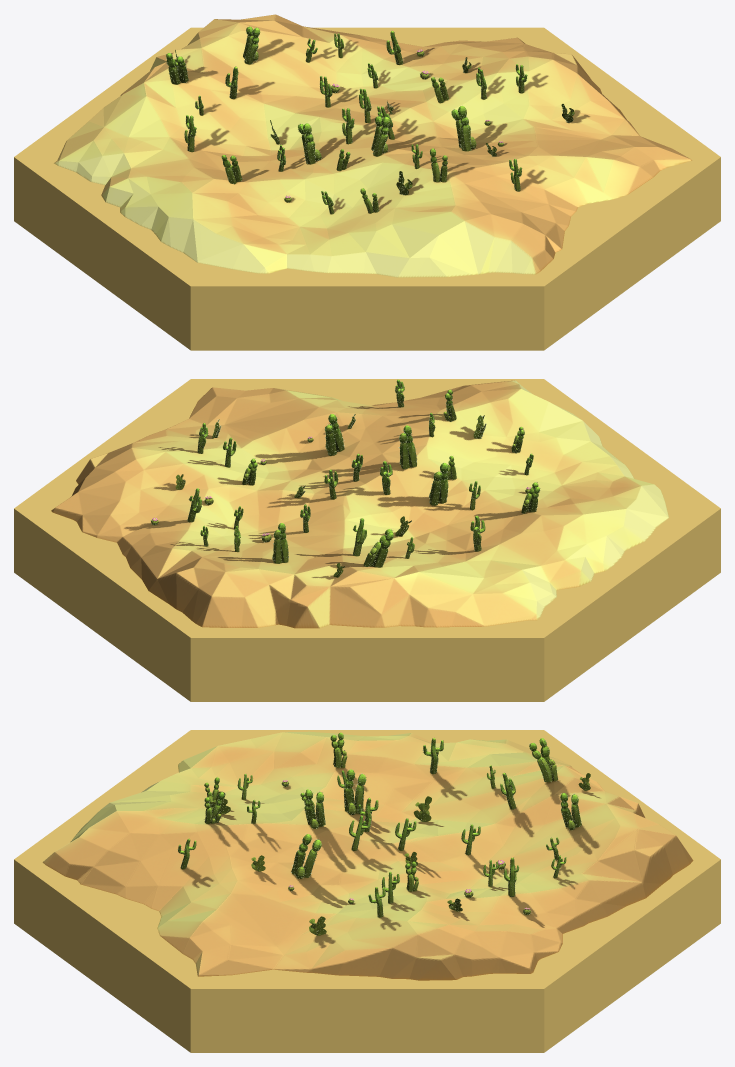
File: desert.glb
The picture shows the model from 3 angles, top to bottom: view 1: azimuth 30°, elevation 25°; view 2: azimuth 150°, elevation 25°; view 3: azimuth 270°, elevation 25°; orthographic projection.
Visible parts, largest first — view 1: Cylinder_012; view 2: Cylinder_012; view 3: Cylinder_012.
Boxes of the visible parts, x1,y1,x2,y2 form: Cylinder_012: (14, 14, 720, 350); Cylinder_012: (14, 379, 720, 701); Cylinder_012: (14, 730, 720, 1052).
Size of the model in its own units: 17.32 by 4.09 by 20.
Materials: 15 (14 with a texture image).
